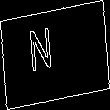N_S: (41, 28, 69, 82)
